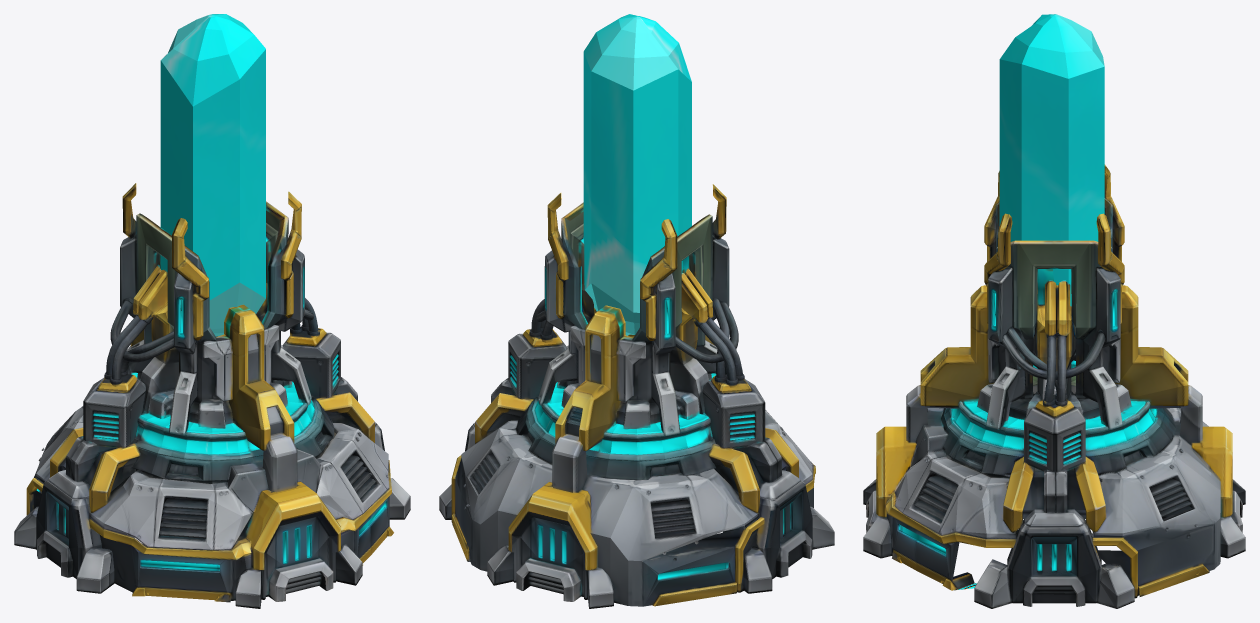
Rendered from Modle_Prop_Crystal.fbx.
3 views of the same model, side by side, from view 1: azimuth 30°, elevation 25°; view 2: azimuth 150°, elevation 25°; view 3: azimuth 270°, elevation 25° (orthographic).
Visible parts, largest first — view 1: Prop_Crystal_Base, Prop_Crystal_Gem; view 2: Prop_Crystal_Base, Prop_Crystal_Gem; view 3: Prop_Crystal_Base, Prop_Crystal_Gem.
Boxes of the visible parts, box(x1,y1,x2,y2) form: Prop_Crystal_Base: box(14, 183, 410, 608); Prop_Crystal_Gem: box(160, 14, 265, 336); Prop_Crystal_Base: box(439, 184, 834, 608); Prop_Crystal_Gem: box(583, 14, 691, 335); Prop_Crystal_Base: box(863, 164, 1245, 608); Prop_Crystal_Gem: box(999, 14, 1104, 306).
Size of the model in its own units: 3.35 by 4.93 by 3.32.
1 material, 1 textured.
